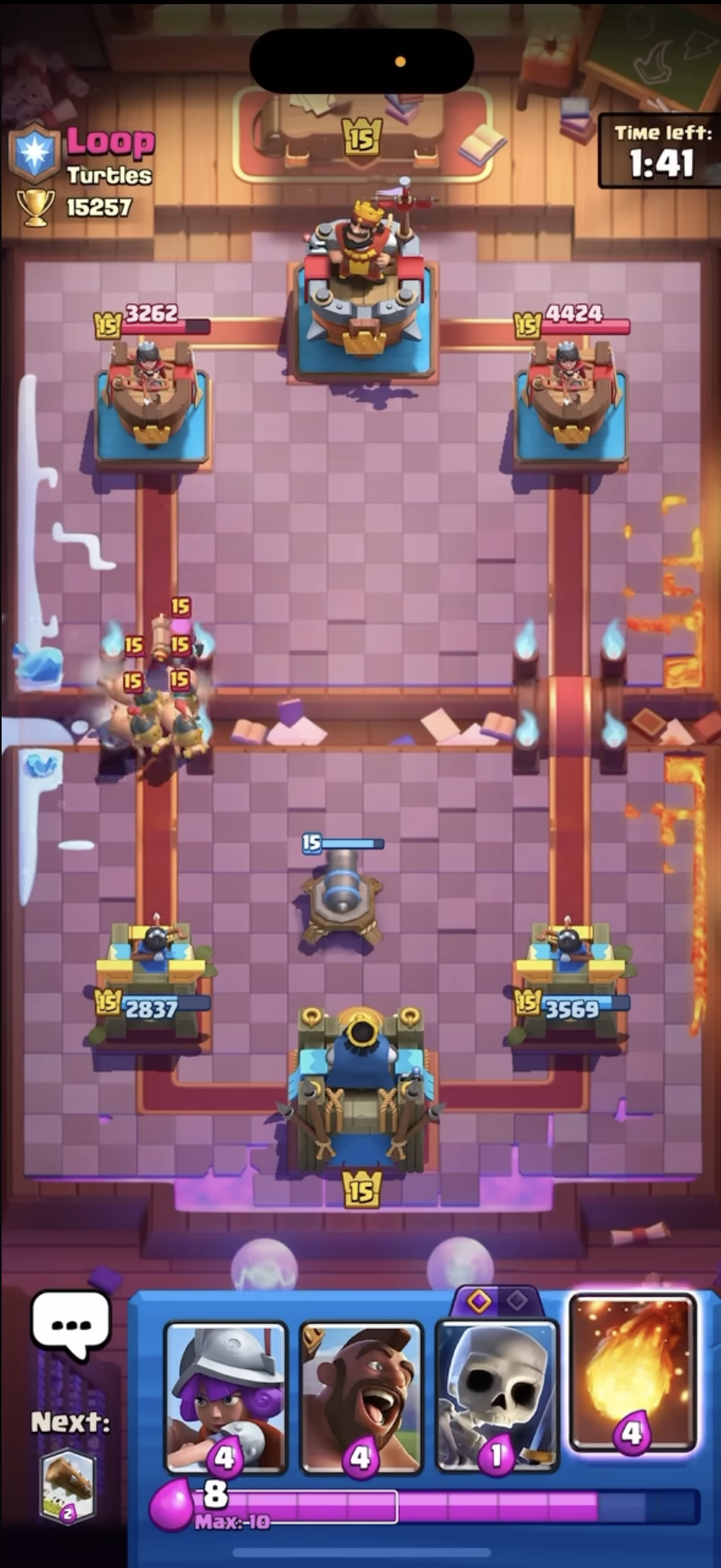firecracker: (144, 593, 217, 665)
